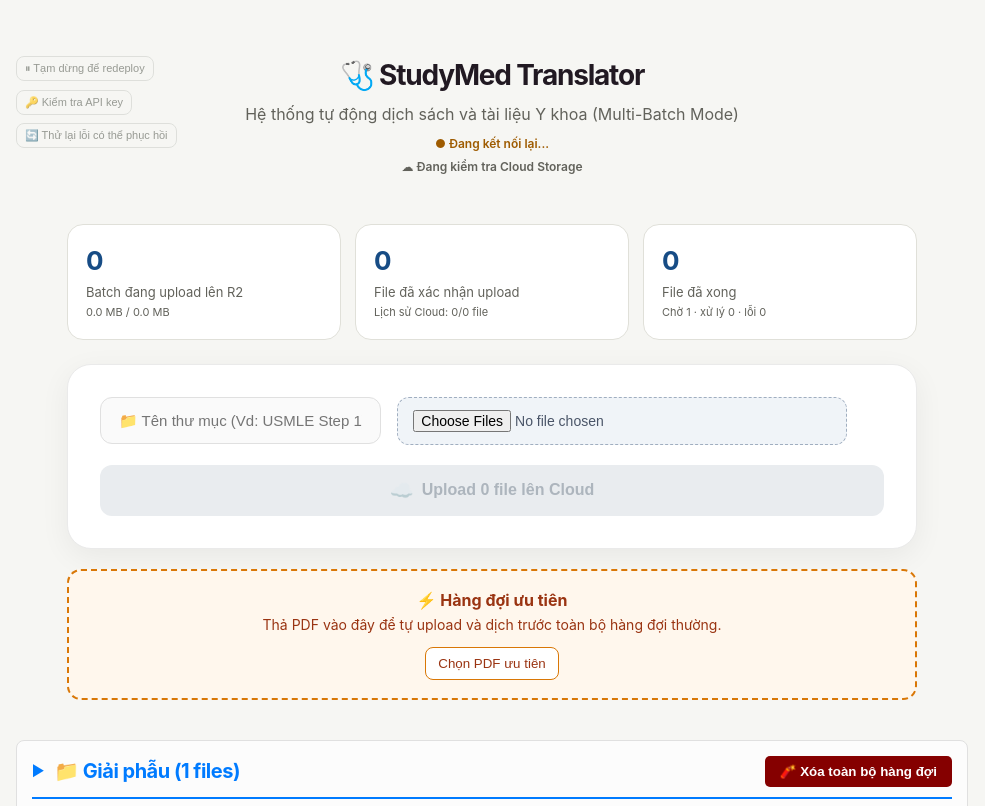
Test: App Cloud Uploader › loads a folder only when opened and keeps its cached files when collapsed again
Click the button "▼ 📁 Giải phẫu (1 files)". click: (136, 771)
box: [32,757,240,785]
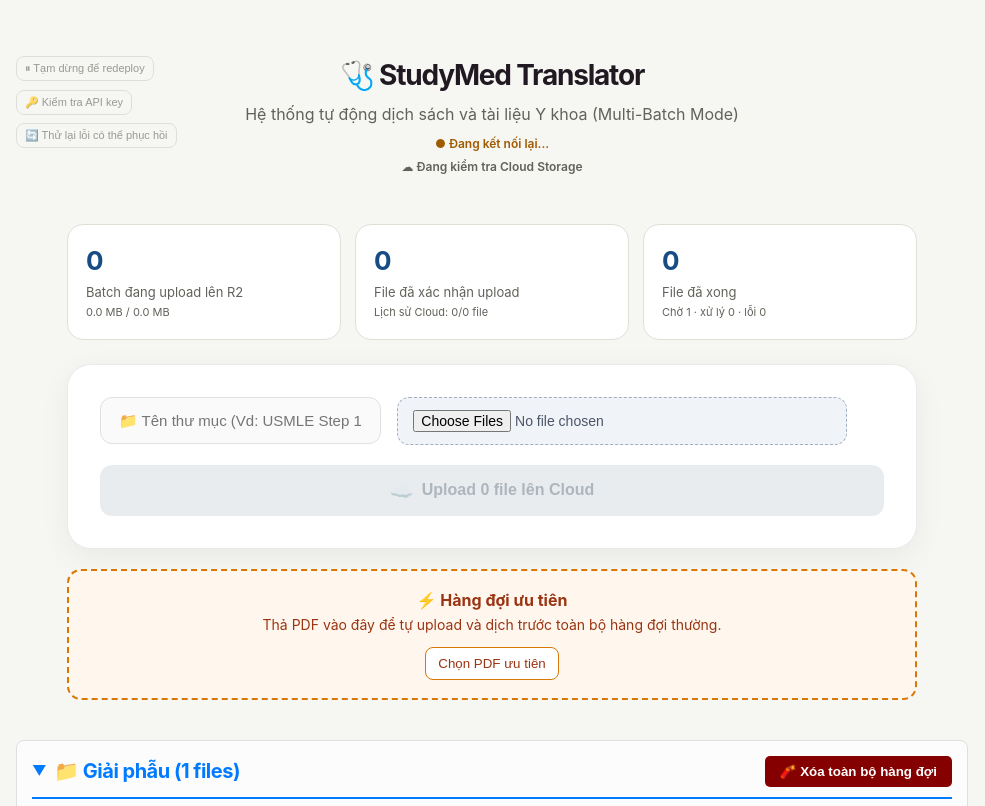
Click the button "▼ 📁 Giải phẫu (1 files)". click: (136, 771)
box: [32,757,240,785]
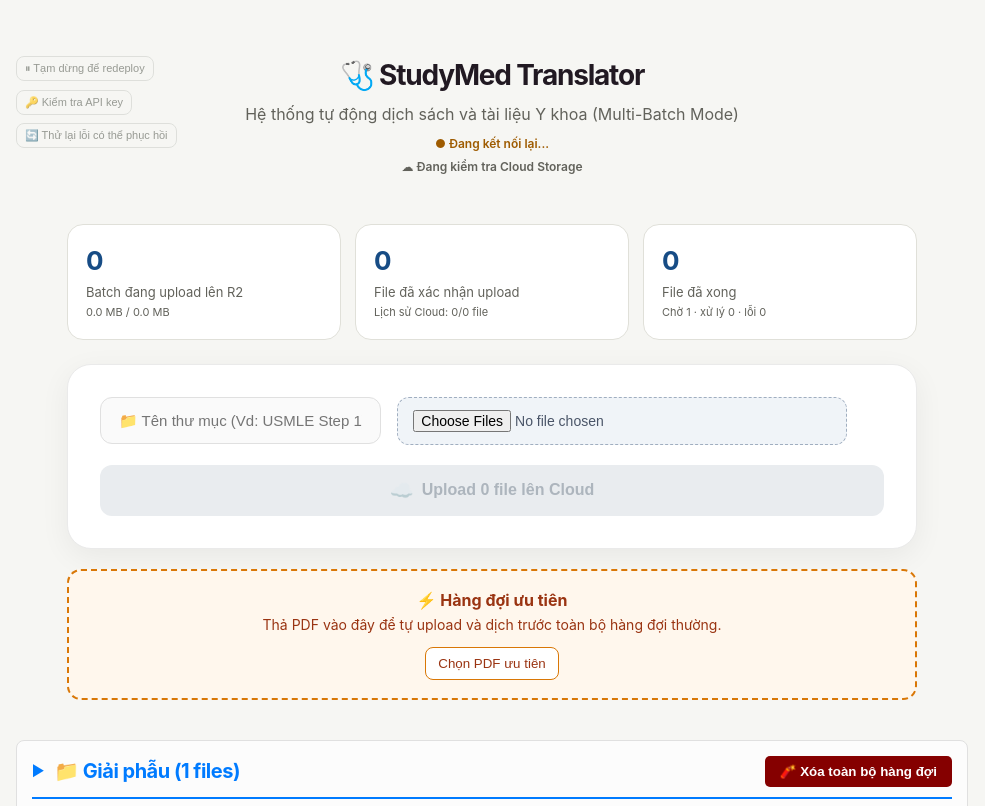
Click the button "▼ 📁 Giải phẫu (1 files)". click: (136, 771)
box: [32,757,240,785]
(page scrolled)
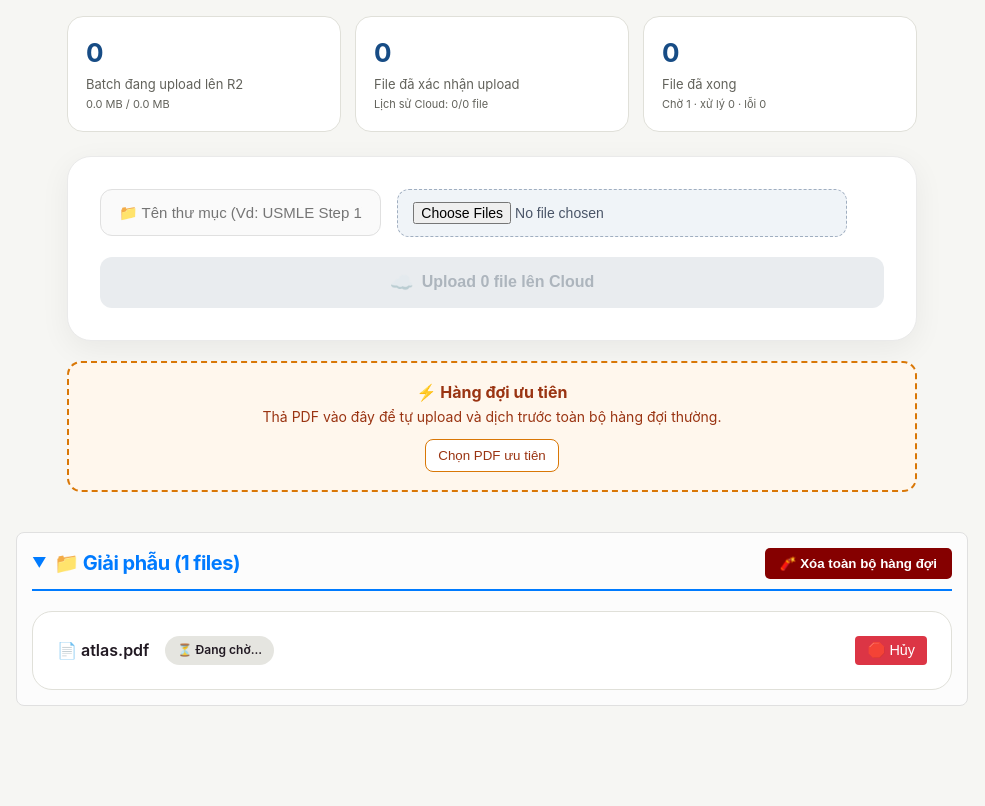
Result: the text "📄 atlas.pdf" is shown at [57,639,149,661]
